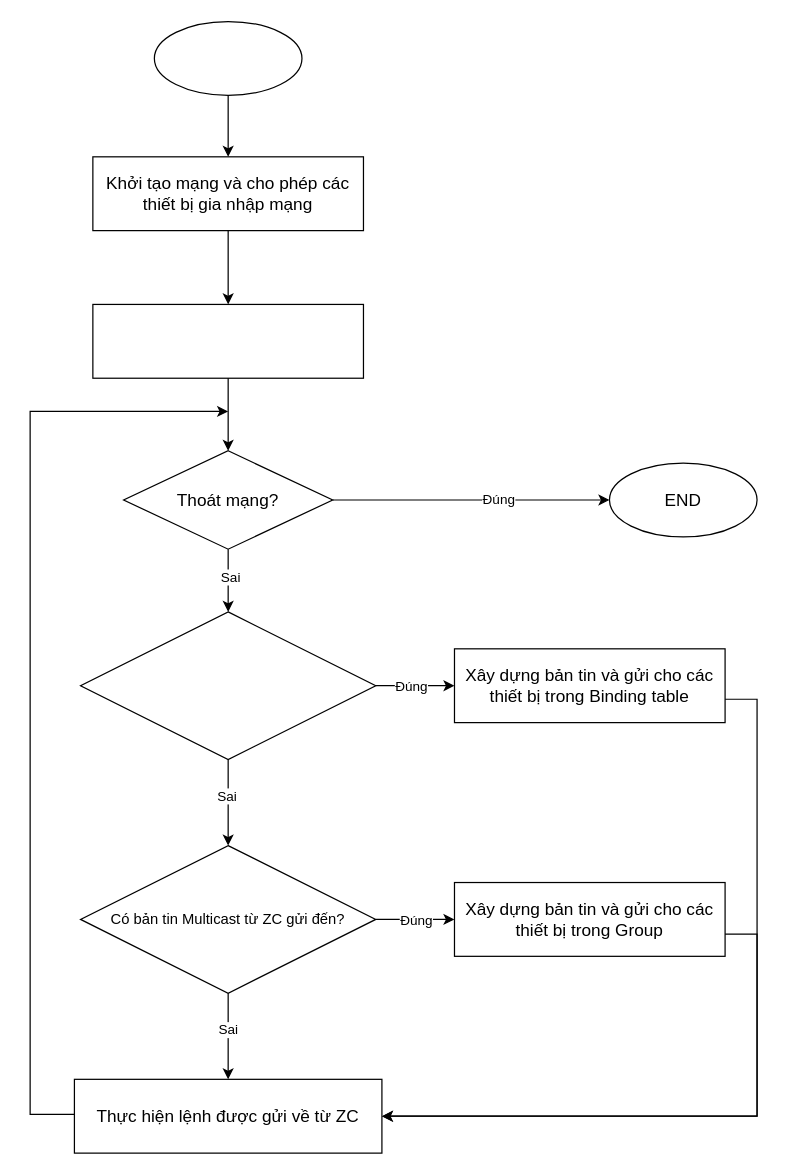
The diagram is 788 pixels wide and 1175 high, and some of its shapes have lost their labels. Each missing label, with the centre of its shape:
Có bản tin Unicast từ ZC gửi đến thiết bị Initiator (Router1)?: point (227, 685)
START: point (227, 57)
Tiến hành Binding và Group giữa các thiết bị: point (227, 340)
